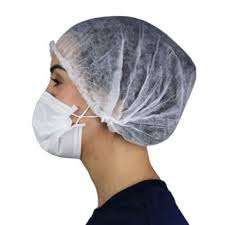with_mask_and_cap: (32, 17, 124, 161)
